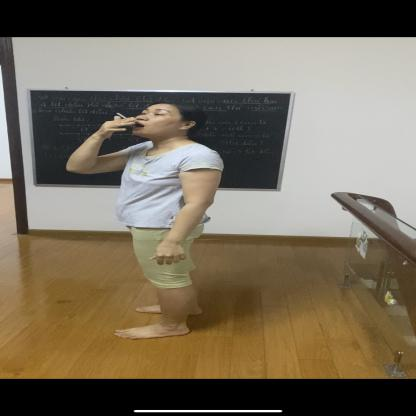cigarette: (116, 112, 127, 120)
person: (66, 100, 222, 343)
